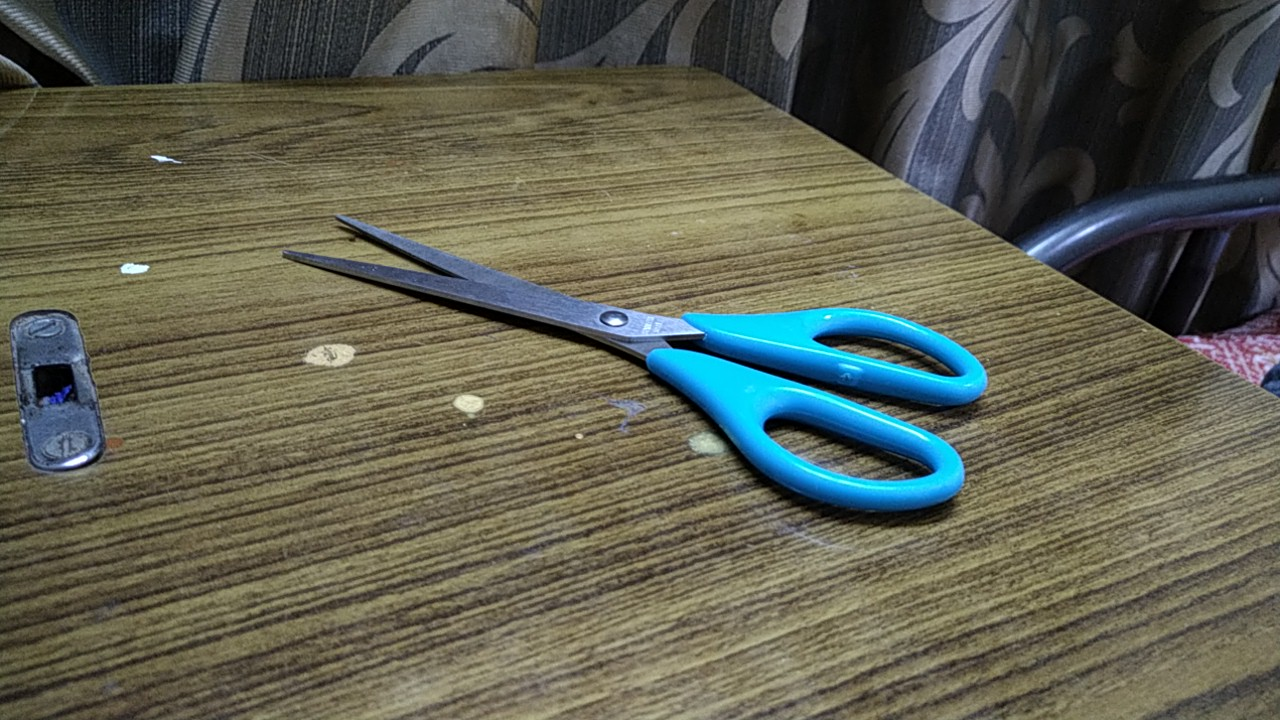scissor: (263, 198, 1002, 553)
